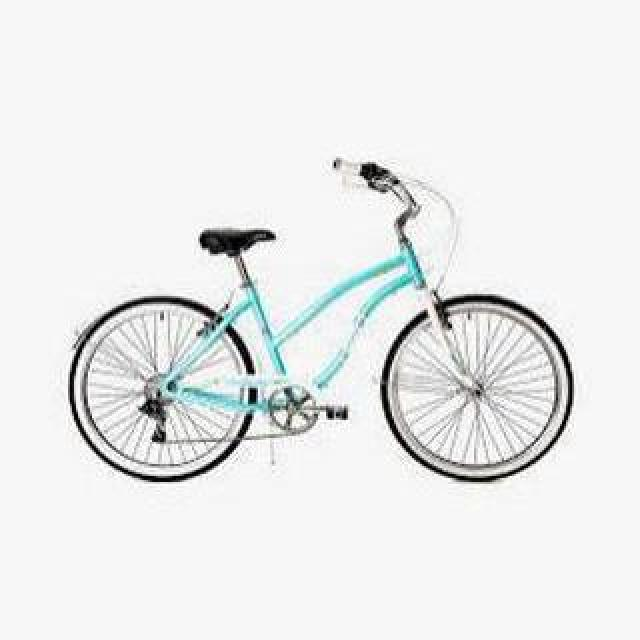Person: (66, 154, 574, 488)
